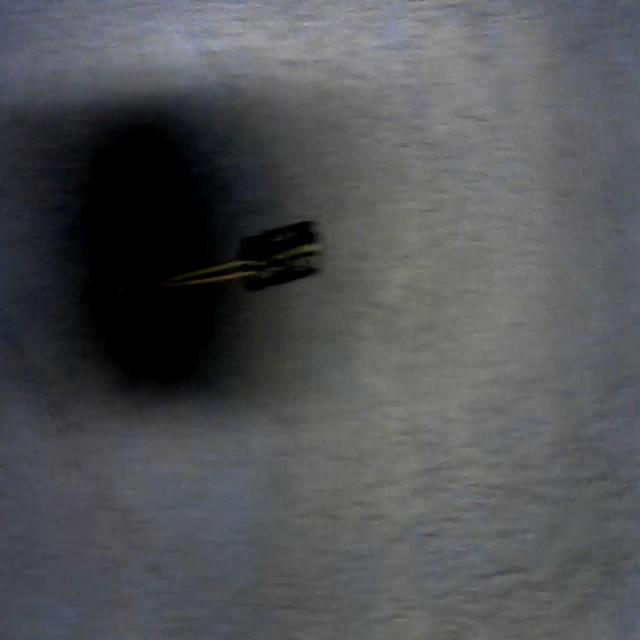capacitor: (154, 219, 321, 302)
